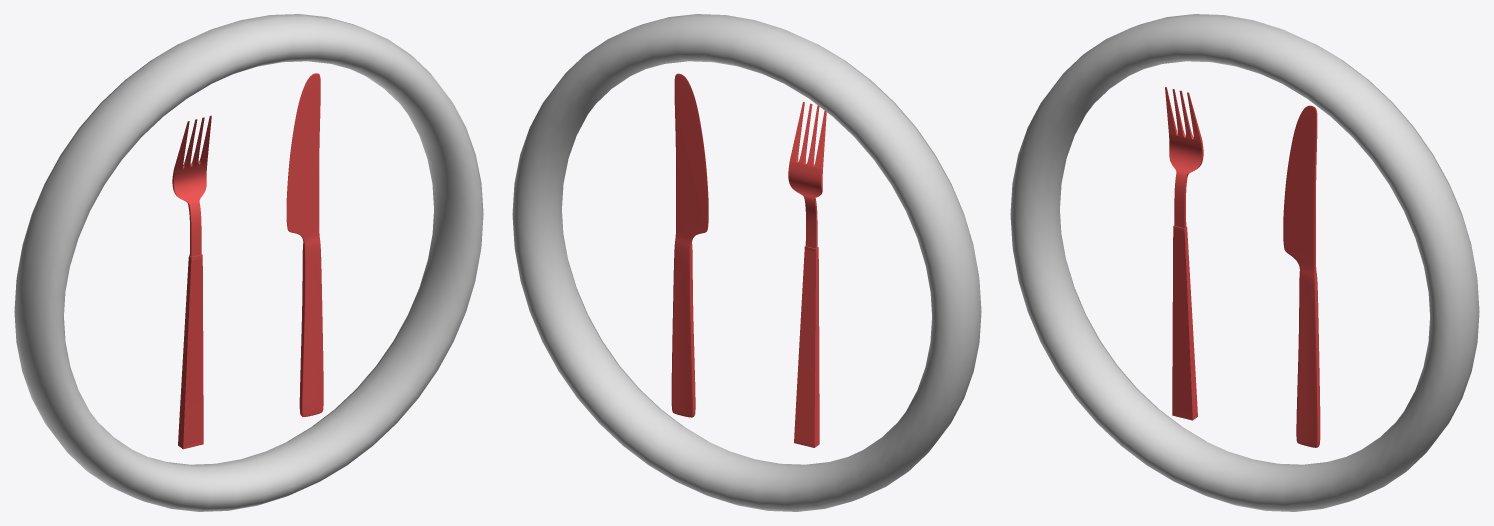
The model's file is icono_restaurantes.fbx.
3 views of the same model, side by side, from view 1: azimuth 30°, elevation 25°; view 2: azimuth 150°, elevation 25°; view 3: azimuth 330°, elevation 25° (orthographic).
Visible parts, largest first — view 1: Torus.005, Cuchillo, Tenedor; view 2: Torus.005, Cuchillo, Tenedor; view 3: Torus.005, Cuchillo, Tenedor.
Part boxes in pixels (x1,y1,x2,y2): Torus.005: (14, 14, 483, 511); Cuchillo: (286, 73, 323, 416); Tenedor: (172, 115, 211, 449); Torus.005: (512, 14, 981, 511); Cuchillo: (671, 73, 708, 417); Tenedor: (788, 102, 826, 447); Torus.005: (1010, 14, 1479, 511); Cuchillo: (1283, 105, 1320, 447); Tenedor: (1165, 87, 1203, 420).
Bounding box in the file's own units: 27.34 × 27.34 × 3.5.
